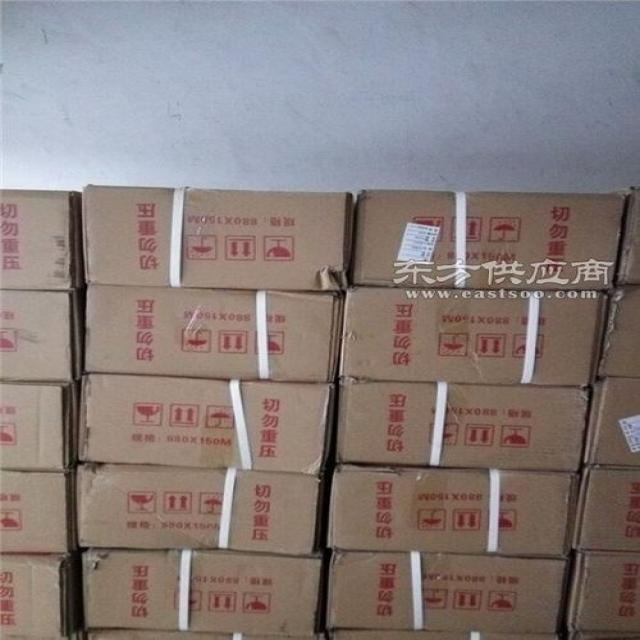Carton: (325, 468, 575, 632), (81, 180, 346, 290), (353, 191, 621, 289), (78, 374, 328, 473), (340, 290, 600, 384), (84, 286, 333, 378), (334, 384, 590, 469), (81, 548, 321, 636), (78, 463, 314, 552), (0, 384, 74, 639), (0, 189, 74, 290), (0, 291, 72, 384)
